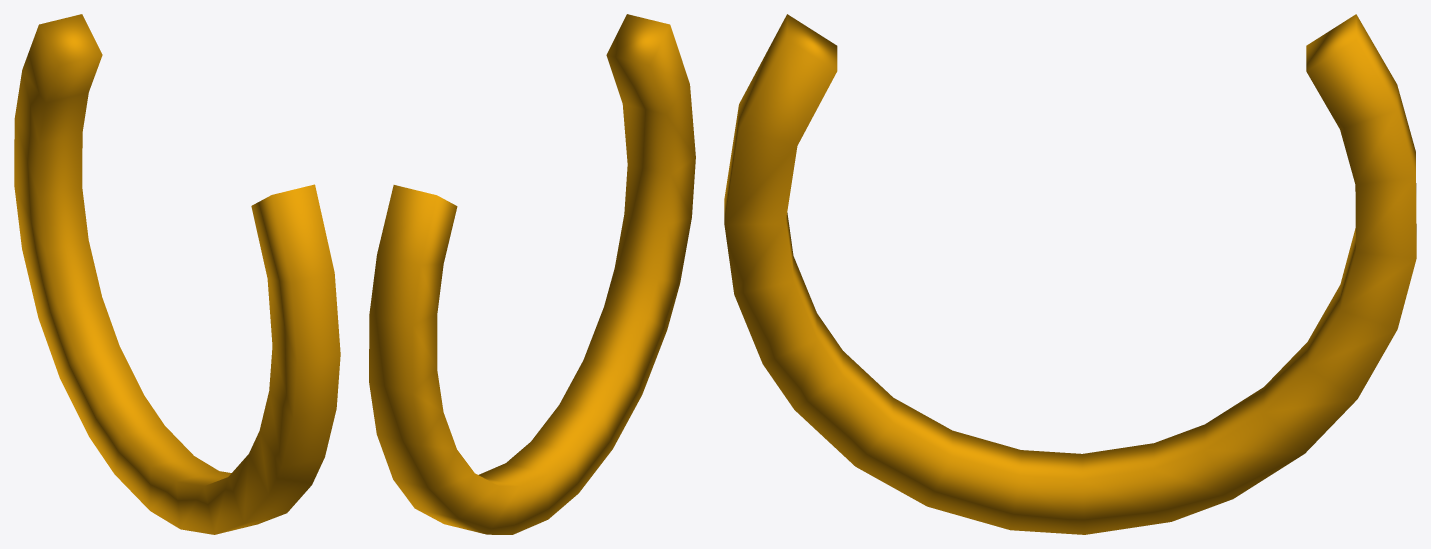
Rendered from Beam_01_Bend_08.fbx.
3 renders of one model, left to right at view 1: azimuth 30°, elevation 25°; view 2: azimuth 150°, elevation 25°; view 3: azimuth 270°, elevation 25°, orthographic. The views are drawn at different scales.
Parts seen in each view (by area): view 1: Beam_01_Bend_08; view 2: Beam_01_Bend_08; view 3: Beam_01_Bend_08.
Boxes of the visible parts, x1,y1,x2,y2 form: Beam_01_Bend_08: (14, 14, 340, 534); Beam_01_Bend_08: (369, 14, 695, 534); Beam_01_Bend_08: (724, 14, 1416, 534).
Size of the model in its own units: 32.52 by 291 by 369.
